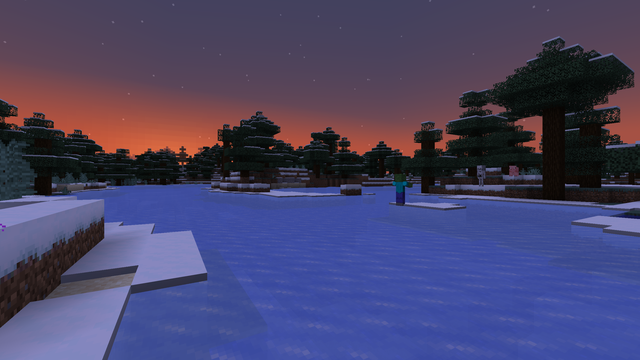cochons: (506, 166, 520, 175)
squelettes: (476, 165, 486, 186)
zombies: (393, 174, 407, 205)
